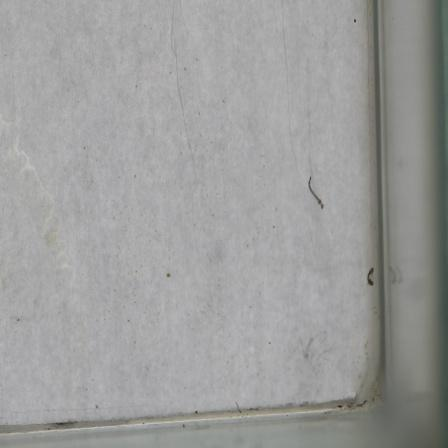Jentik-Nyamuk: (306, 173, 329, 211), (363, 263, 381, 290)
